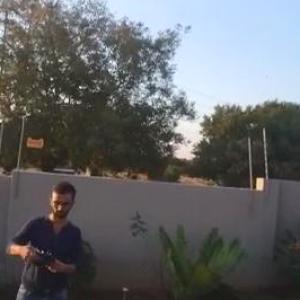follow: (2, 172, 89, 299)
